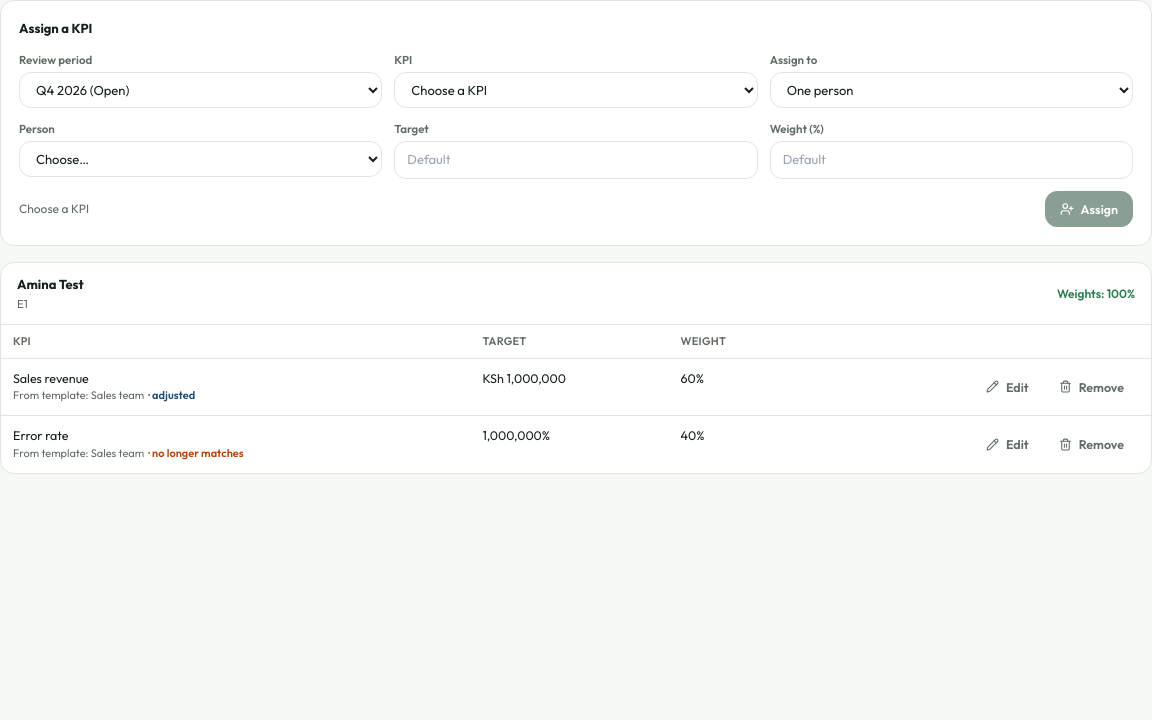
it: Assign › shows which KPIs came from a template, and which were adjusted or no longer match
The image size is (1152, 720).
Expected: the text "From template: Sales team· adjusted" is shown, [13, 388, 195, 402]
Expected: the text "· adjusted" is shown, [148, 388, 195, 402]
Click the button with aria-label "Edit Sales revenue". click: (1007,387)
box: [971, 368, 1044, 405]
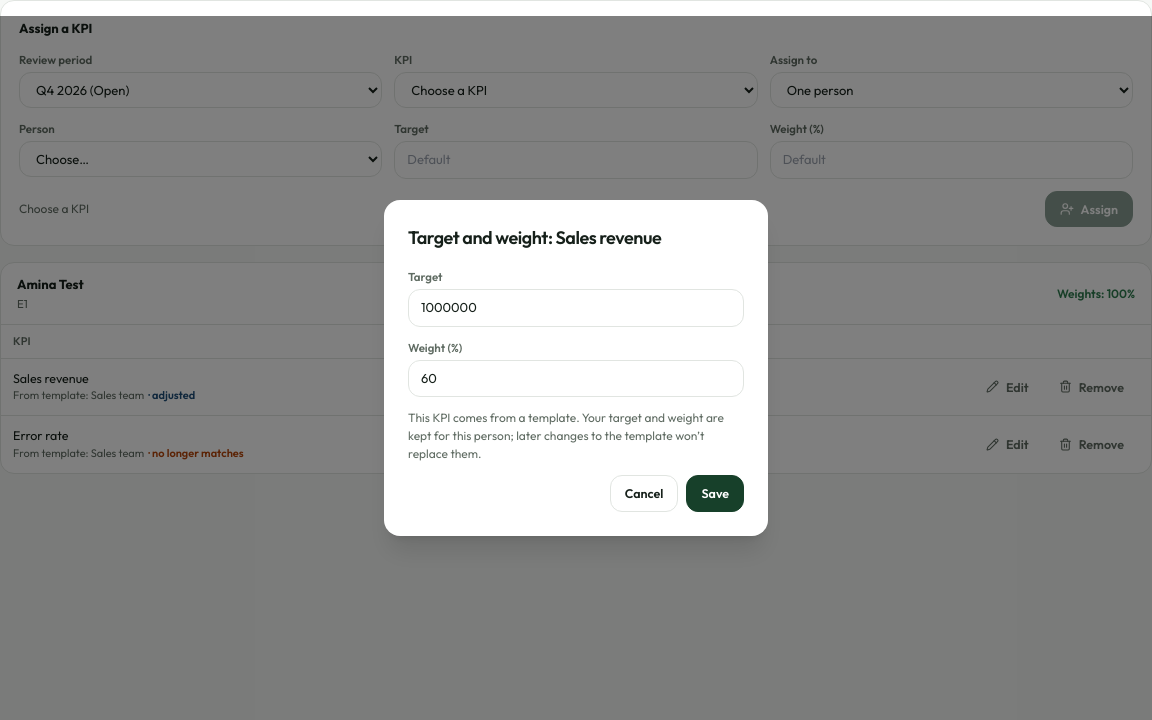
Expected: the text "comes from a template" is shown, [408, 410, 724, 461]
